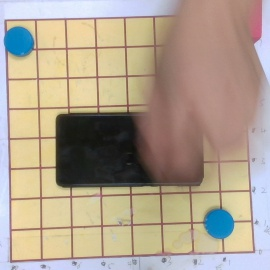blue: (3, 25, 35, 56), (204, 209, 235, 239)
phone: (54, 112, 209, 187)
